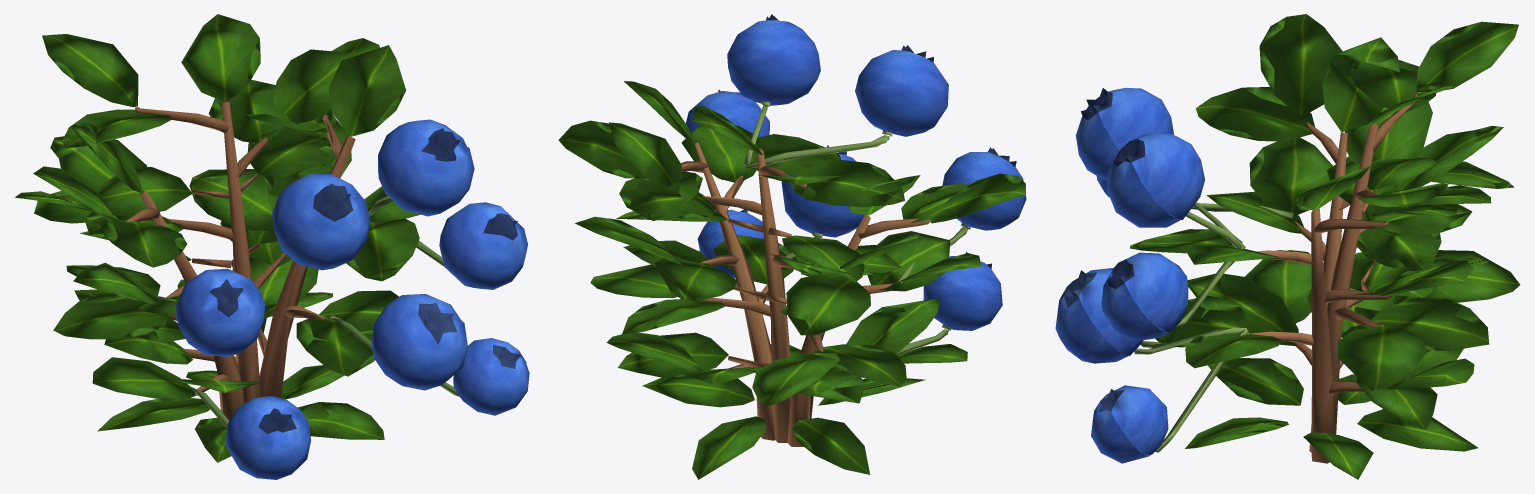
File: NP_Blueberry_Ready_LOD1.fbx
The picture shows the model from 3 angles, left to right: view 1: azimuth 30°, elevation 25°; view 2: azimuth 150°, elevation 25°; view 3: azimuth 270°, elevation 25°; orthographic projection. The views are drawn at different scales.
Parts seen in each view (by area): view 1: NP_Blueberry_Ready; view 2: NP_Blueberry_Ready; view 3: NP_Blueberry_Ready.
Boxes of the visible parts, x1,y1,x2,y2 form: NP_Blueberry_Ready: (15,14,529,479); NP_Blueberry_Ready: (558,14,1026,479); NP_Blueberry_Ready: (1055,14,1520,479).
Size of the model in its own units: 97.25 by 80.43 by 89.21.
